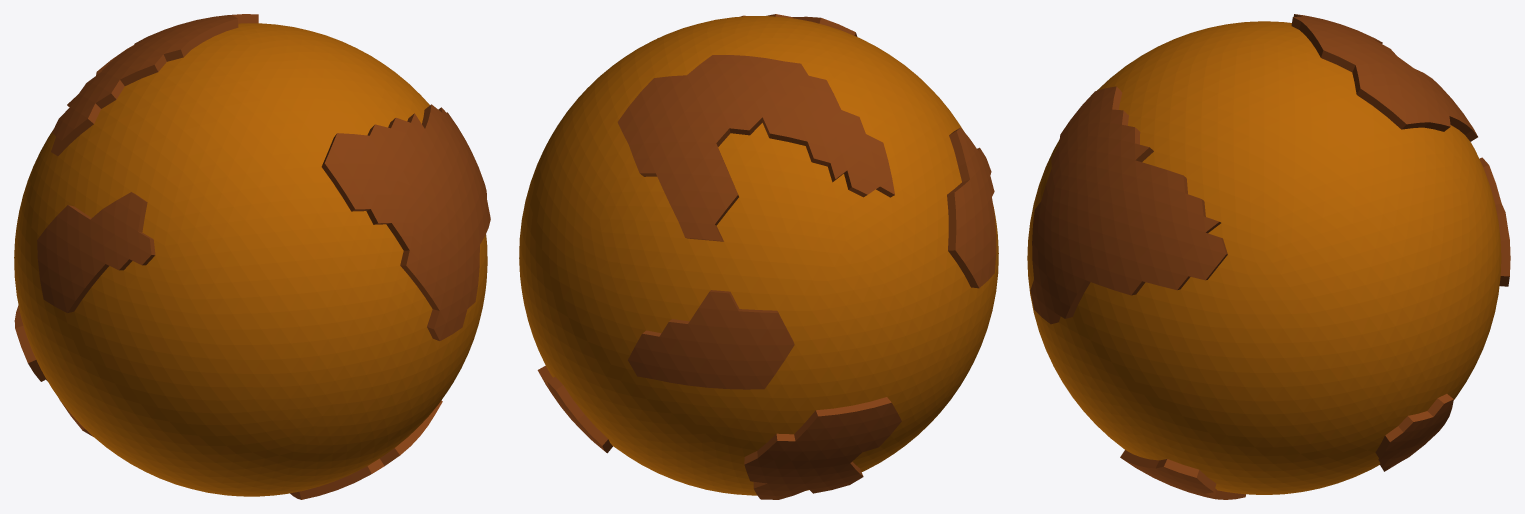
Rendered from Planet2.fbx.
The picture shows the model from 3 angles, left to right: view 1: azimuth 30°, elevation 25°; view 2: azimuth 150°, elevation 25°; view 3: azimuth 270°, elevation 25°; orthographic projection.
Visible parts, largest first — view 1: Planet2; view 2: Planet2; view 3: Planet2.
Part boxes in pixels (x1,y1,x2,y2): Planet2: (14,14,490,499); Planet2: (519,14,998,499); Planet2: (1027,14,1510,499).
Size of the model in its own units: 4071 by 4086 by 4078.
1 material, 1 textured.
